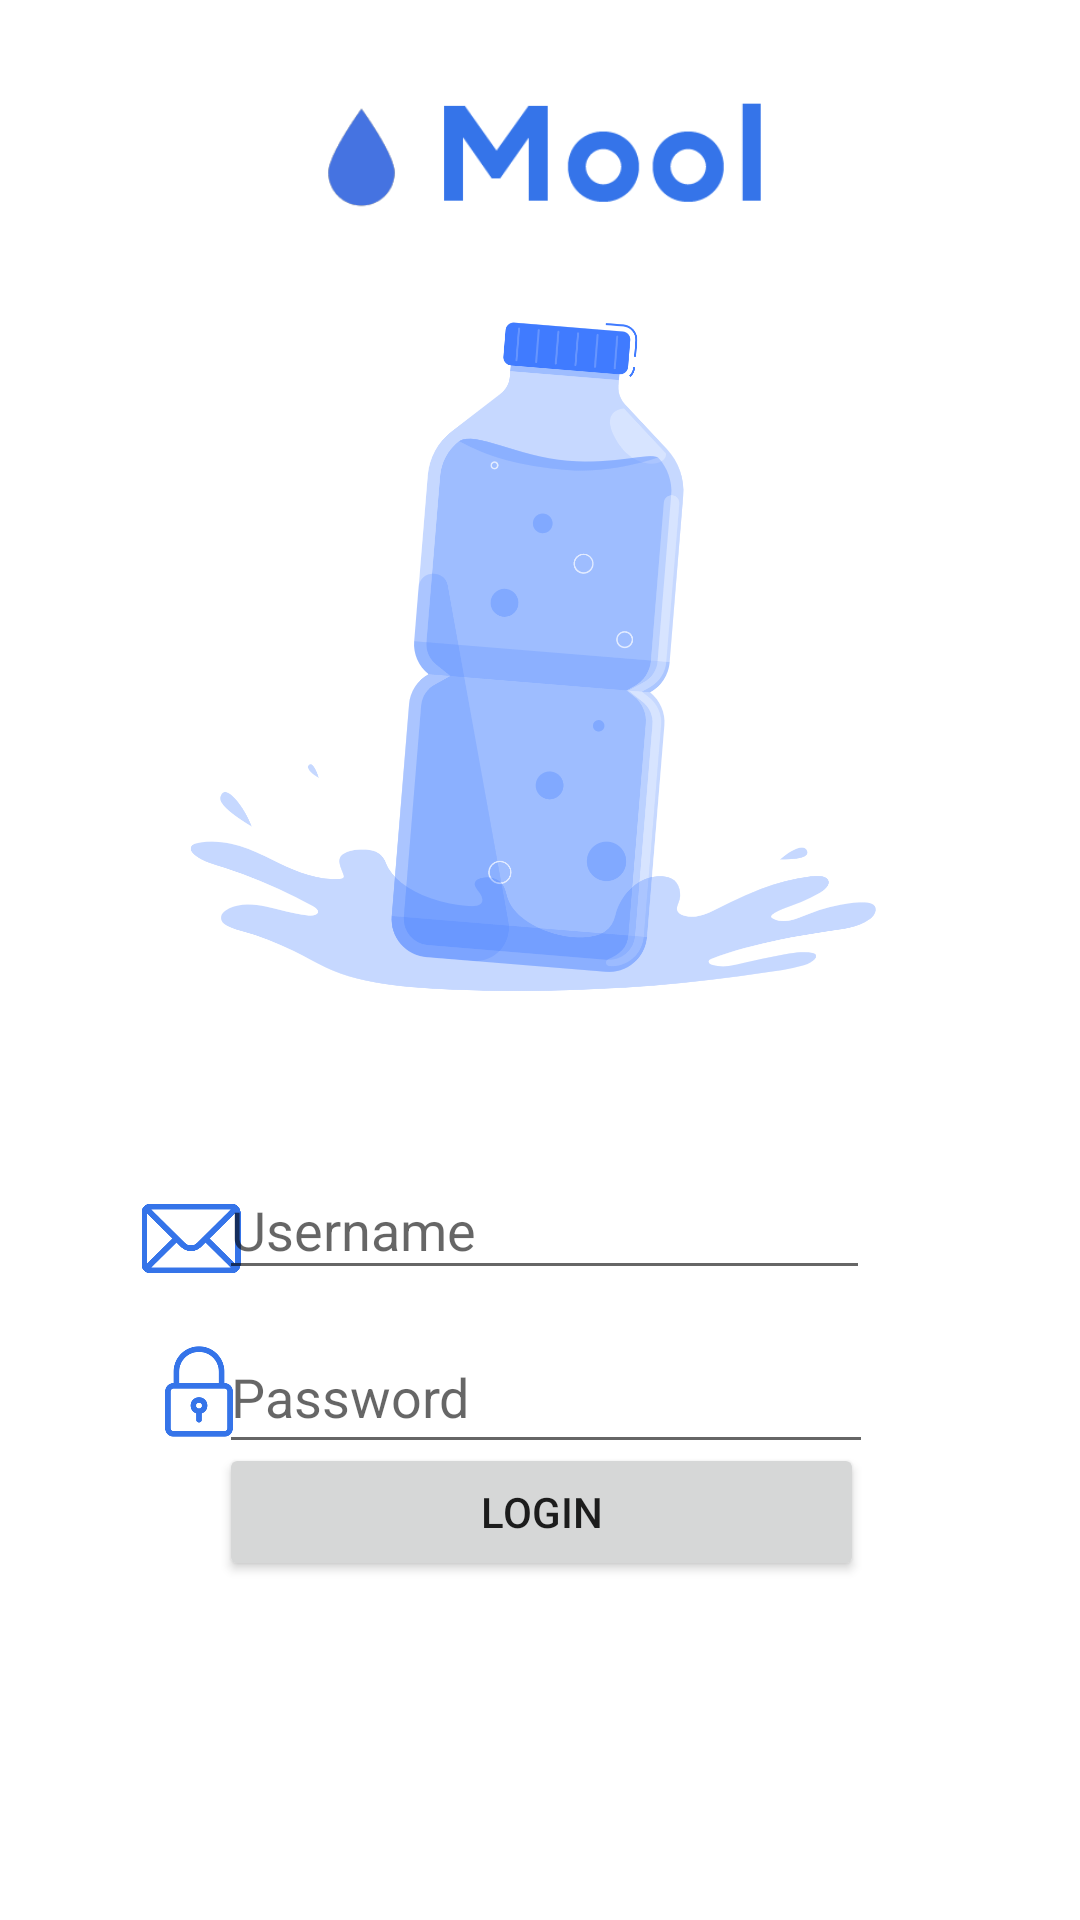

Where icons sit on this 1080 × 1920 app screen, as (x1, y1, x2, y2):
mail: (142, 1204, 248, 1273)
padlock: (165, 1346, 233, 1437)
